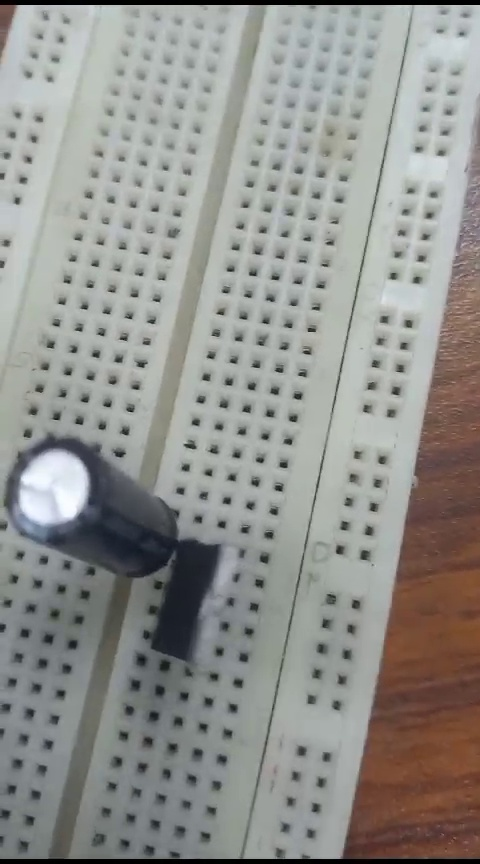capacitor: (6, 432, 176, 587)
voltage regulator: (152, 539, 242, 672)
